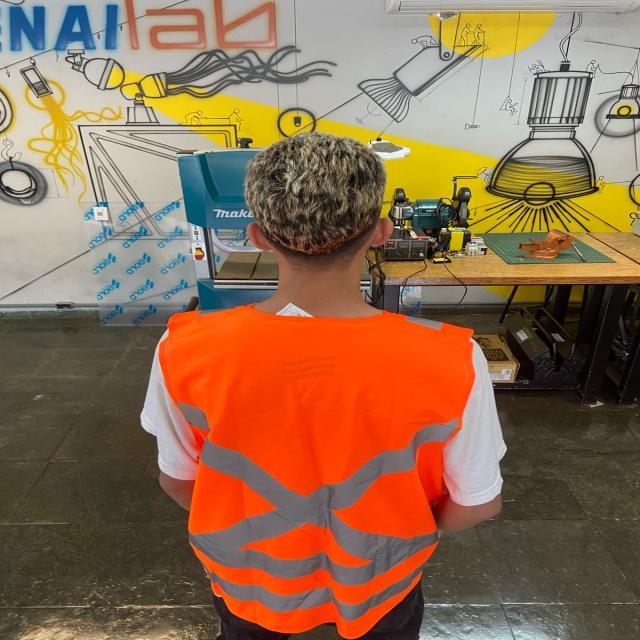COLETE: (158, 298, 479, 640)
